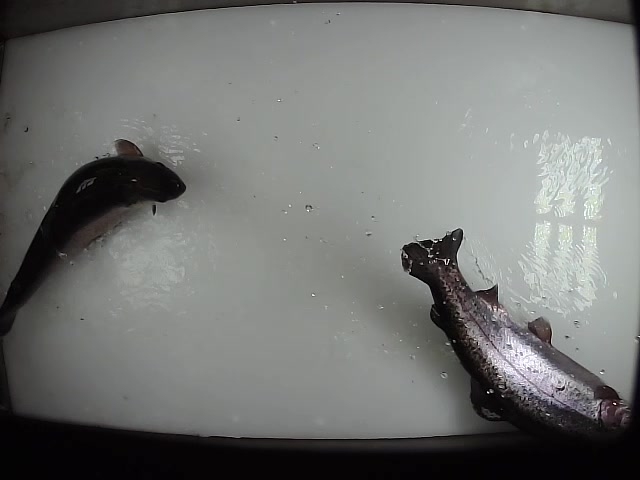Fish: (1, 140, 185, 337)
